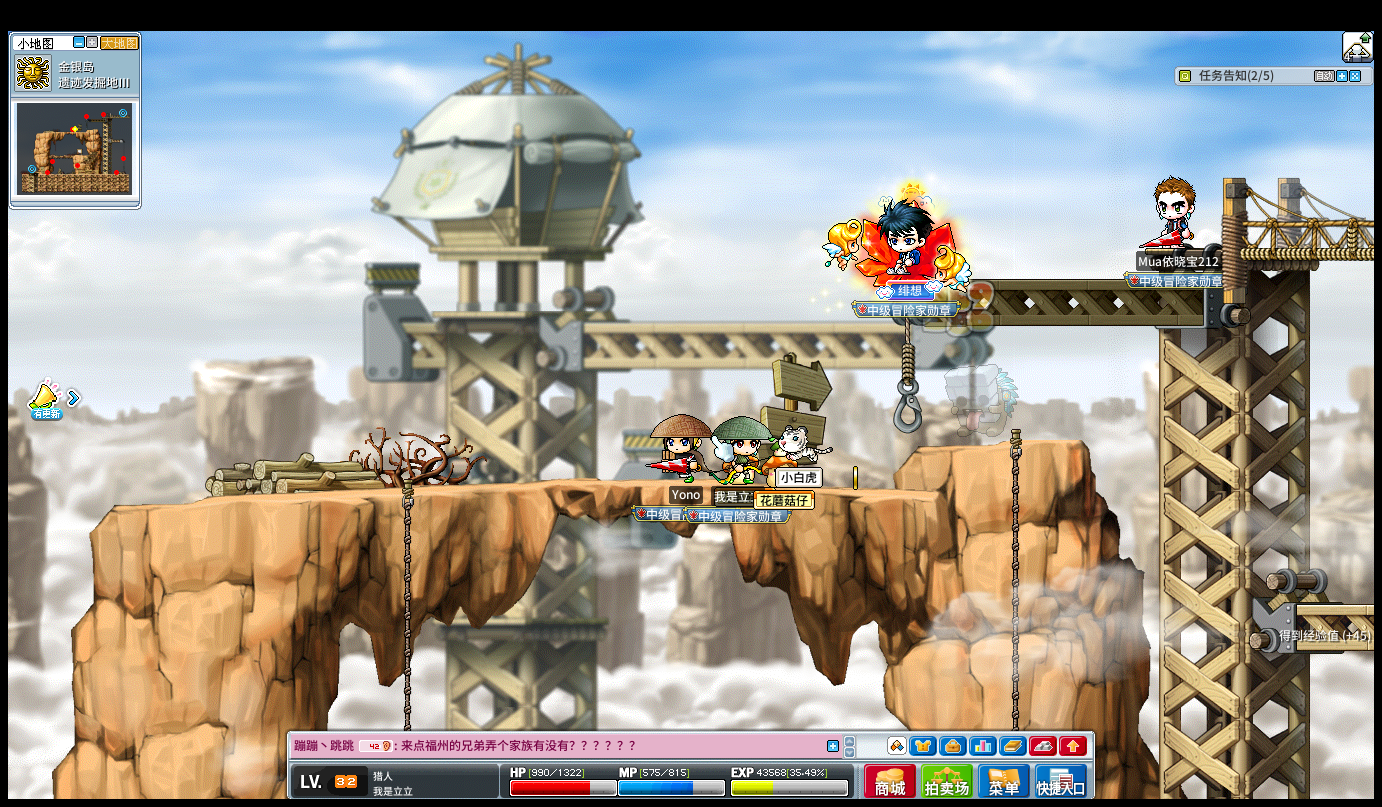floor: (99, 473, 847, 506), (110, 477, 995, 492), (918, 435, 1084, 450), (1294, 601, 1377, 615)
monster: (947, 362, 1019, 442)
rope: (1006, 426, 1021, 721), (399, 469, 412, 805), (401, 473, 413, 740), (402, 477, 413, 670)
